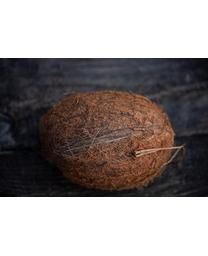coconut: (35, 93, 176, 192)
